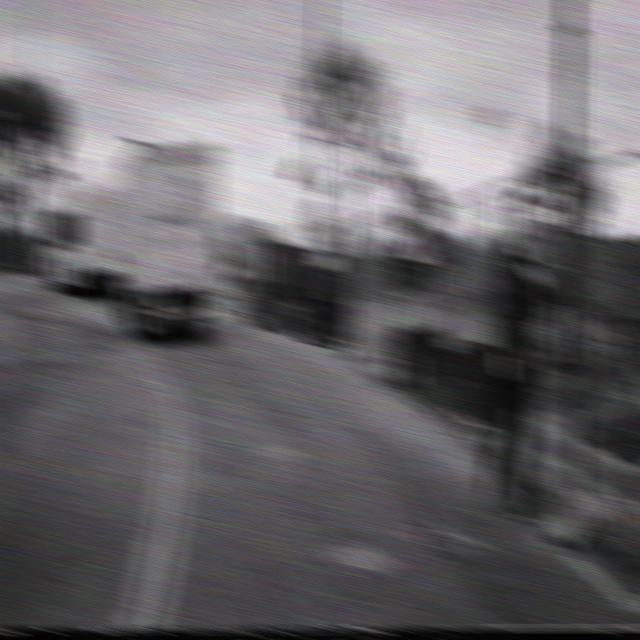stop: (302, 198, 332, 236)
